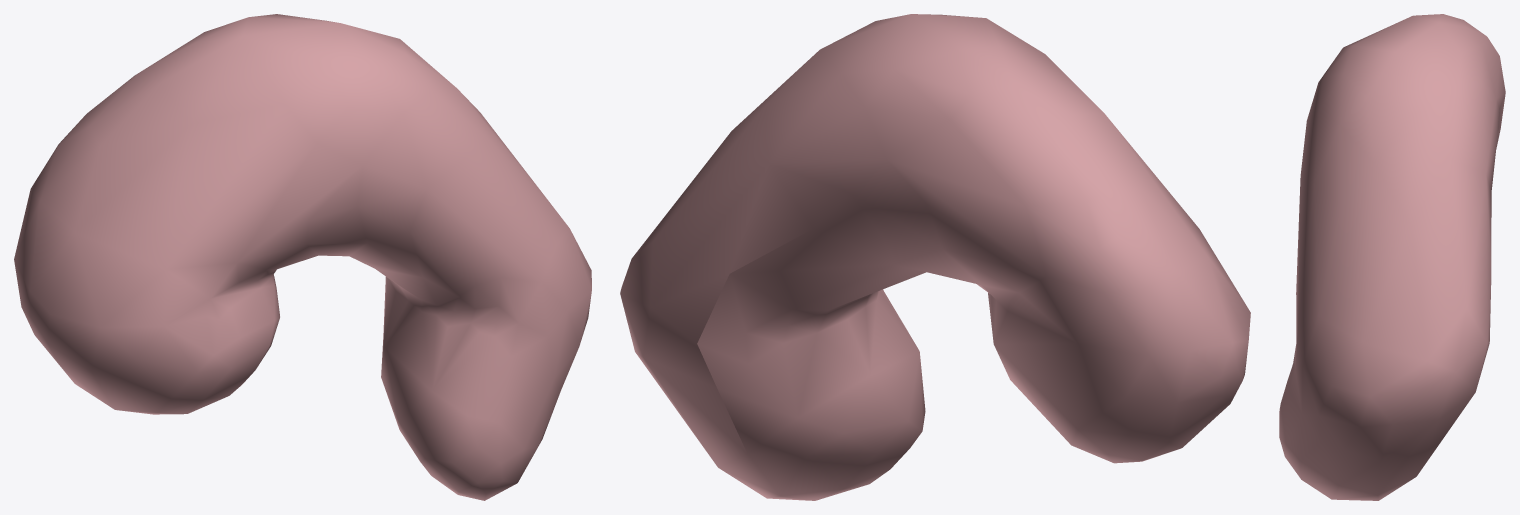
File: fma16983_fj2616.glb
3 views of the same model, side by side, from view 1: azimuth 30°, elevation 25°; view 2: azimuth 150°, elevation 25°; view 3: azimuth 270°, elevation 25° (orthographic). The views are drawn at different scales.
Visible parts, largest first — view 1: FMA16983_FJ2616; view 2: FMA16983_FJ2616; view 3: FMA16983_FJ2616.
Part boxes in pixels (x1,y1,x2,y2): FMA16983_FJ2616: [14, 14, 591, 500]; FMA16983_FJ2616: [620, 14, 1250, 500]; FMA16983_FJ2616: [1279, 14, 1505, 500].
Size of the model in its own units: 0.0622 by 0.0528 by 0.0271.
